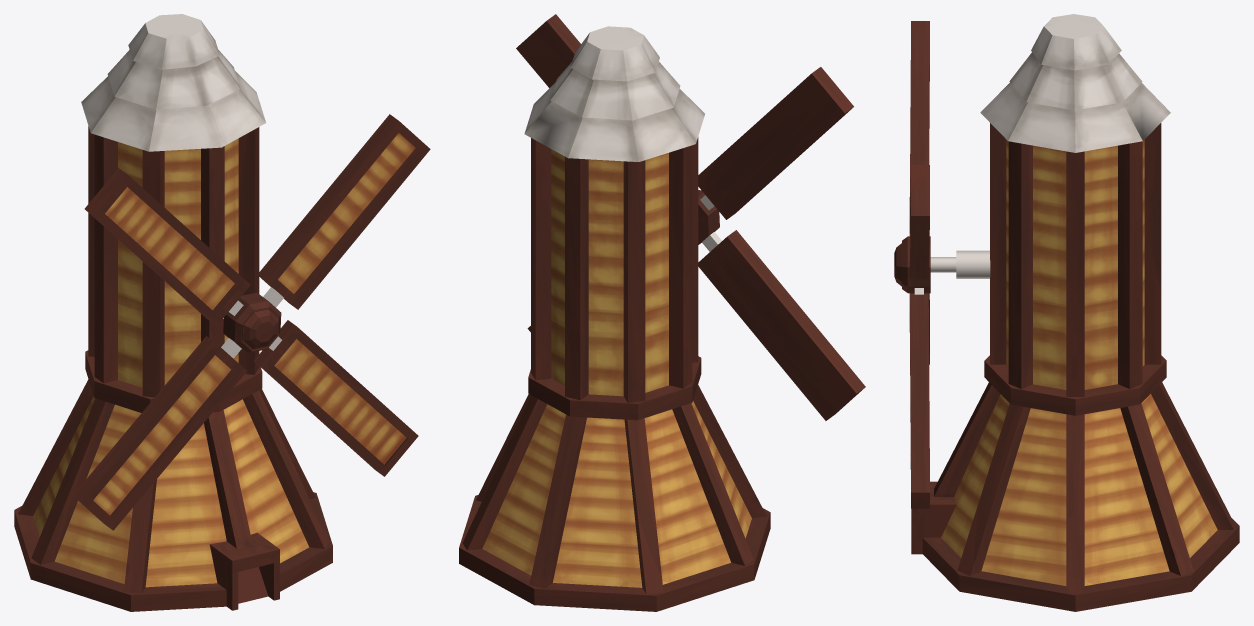
The model's file is Windmill.FBX.
The picture shows the model from 3 angles, left to right: view 1: azimuth 30°, elevation 25°; view 2: azimuth 150°, elevation 25°; view 3: azimuth 270°, elevation 25°; orthographic projection. The views are drawn at different scales.
Parts seen in each view (by area): view 1: Box019, Cylinder001; view 2: Box019, Cylinder001; view 3: Box019, Cylinder001.
Part boxes in pixels (<box>): Box019: <box>14,14,332,611</box>; Cylinder001: <box>72,114,430,530</box>; Box019: <box>459,26,770,611</box>; Cylinder001: <box>516,14,865,420</box>; Box019: <box>911,14,1239,611</box>; Cylinder001: <box>894,21,990,508</box>.
Bounding box in the file's own units: 108 × 154 × 93.22.
Materials: 2 (2 with a texture image).
